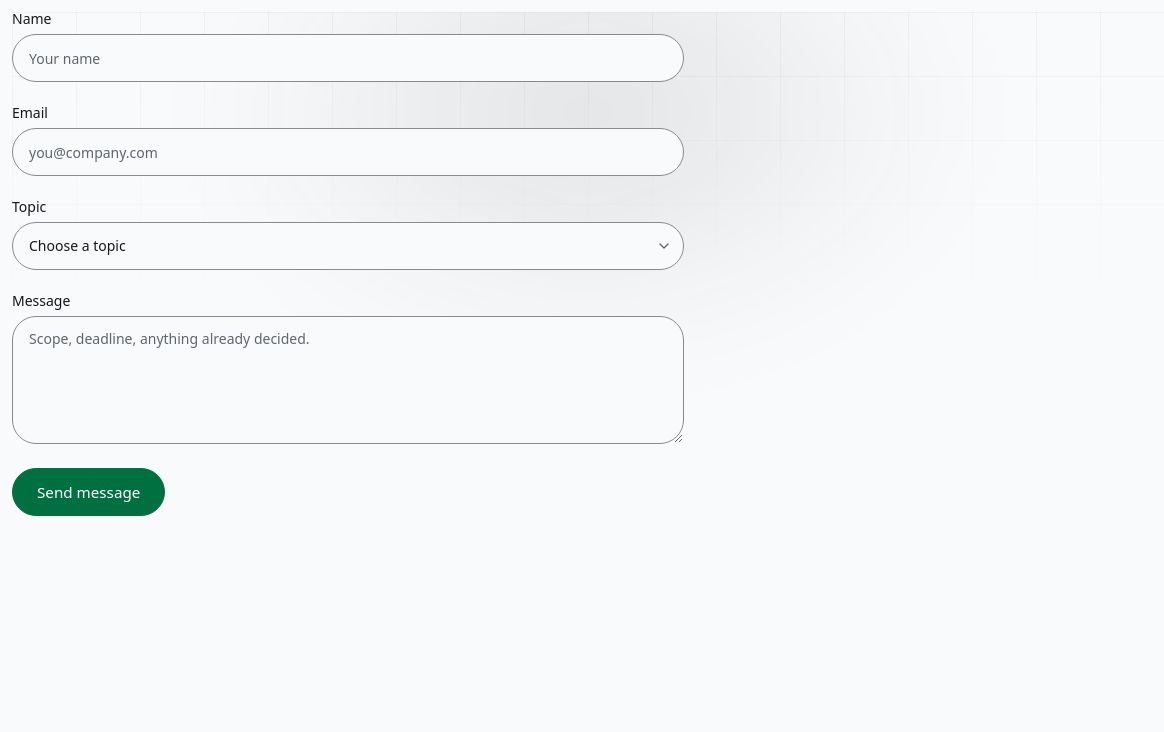
Test: ContactForm validation › shows a per field error, aria-invalid and aria-describedby, and focuses the first invalid field on empty submit
The image size is (1164, 732).
Click the button "Send message" at (89, 492), box [12,468,165,516]
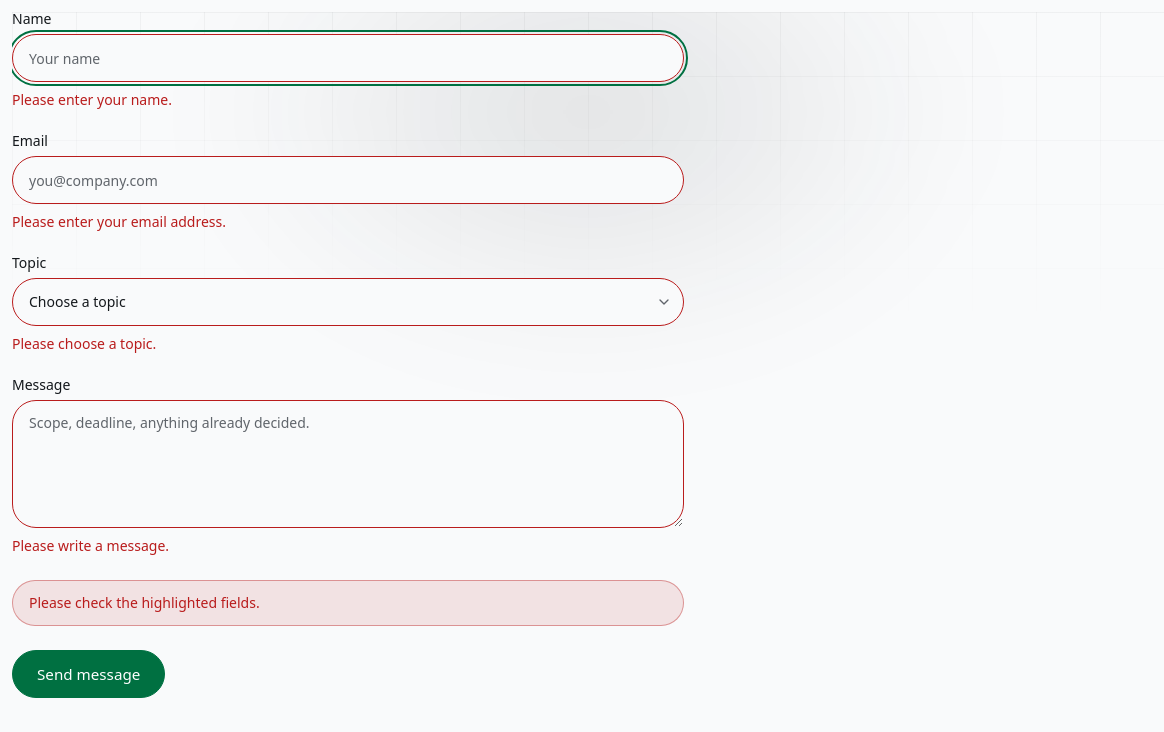
Expected: the message reads "Please check the highlighted fields.", [29,593,260,612]
